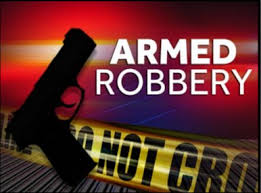gun: (5, 25, 102, 187)
